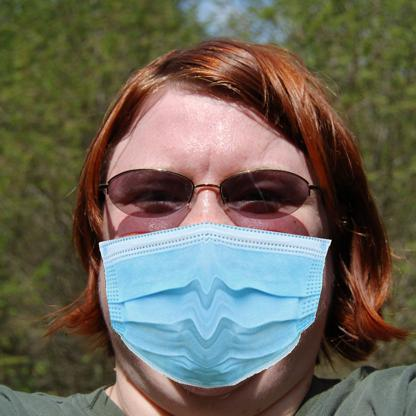mask: (96, 223, 334, 390)
